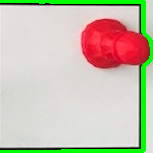Red Pawn: (79, 16, 150, 73)
